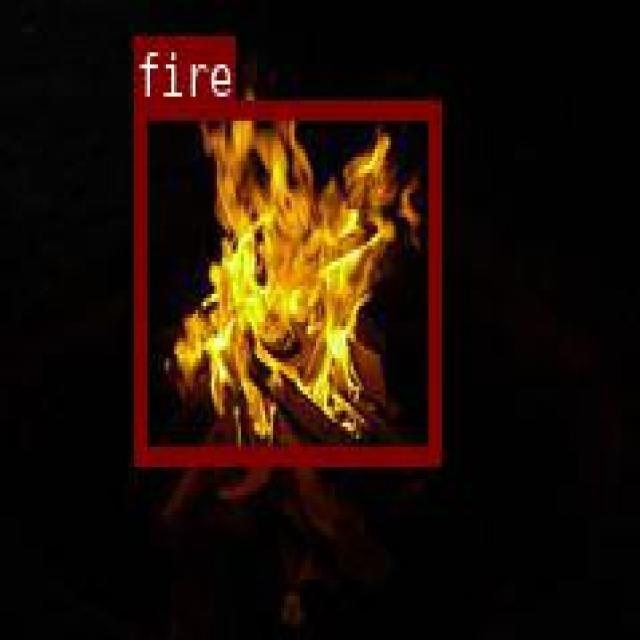fire: (132, 97, 438, 460)
